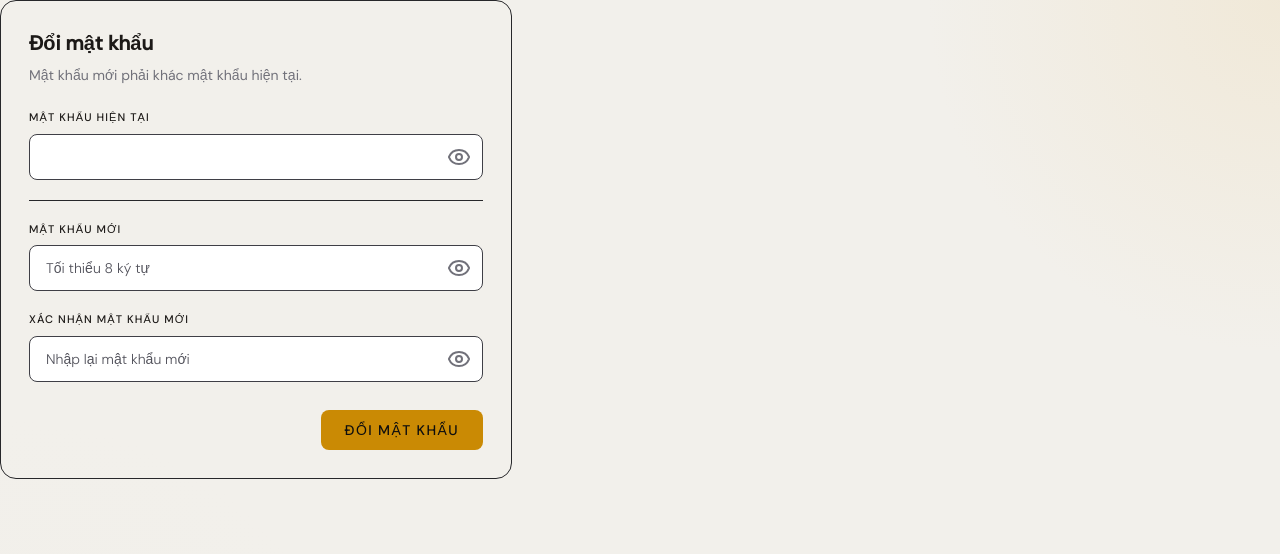
Test: ChangePasswordForm › should show error when confirm password does not match
The image size is (1280, 554).
Type "oldPassword1" into the 1st password field.
click(256, 156); type("oldPassword1")  # box [29,134,483,180]
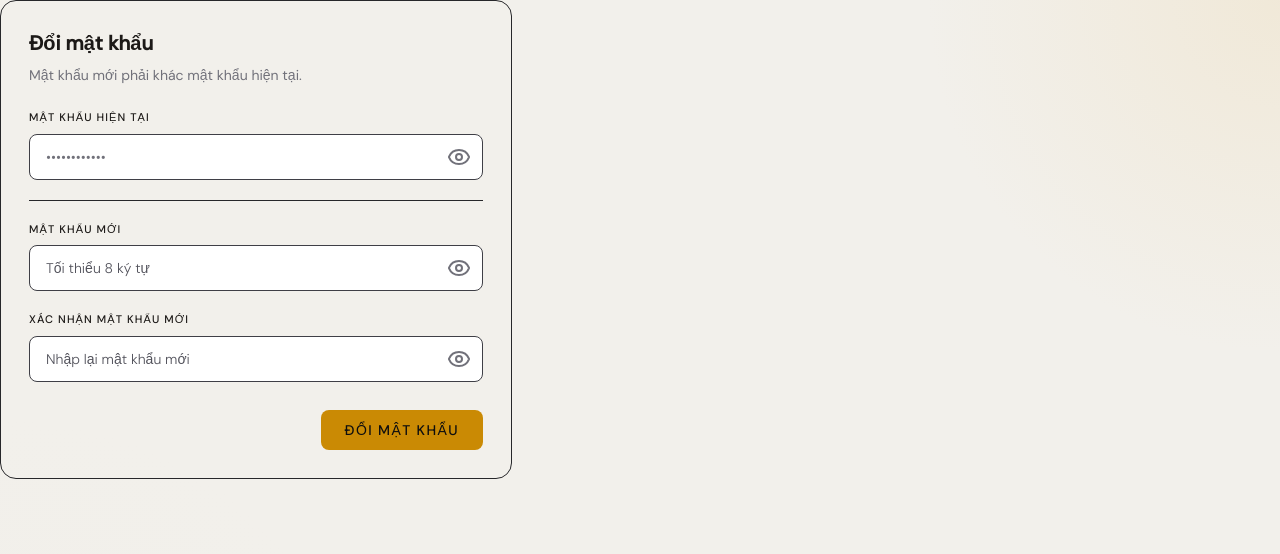
Type "NewPassword1" into the password field with placeholder "Tối thiểu 8 ký tự".
click(256, 268); type("NewPassword1")  # box [29,245,483,291]
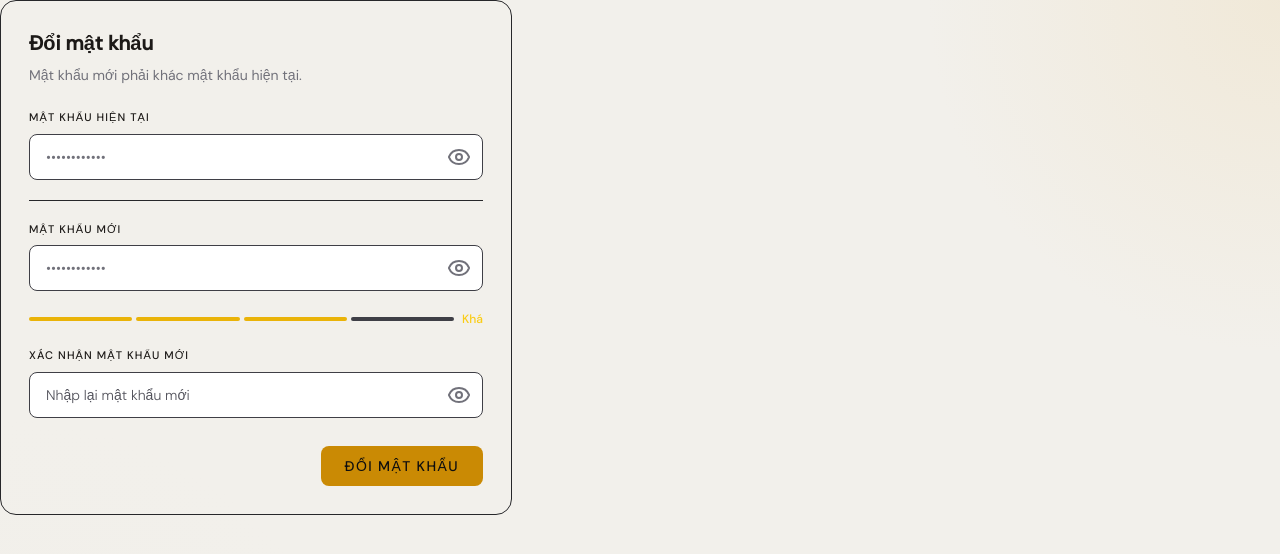
Type "OtherPassword1" into the password field with placeholder "Nhập lại mật khẩu mới".
click(256, 394); type("OtherPassword1")  # box [29,372,483,418]
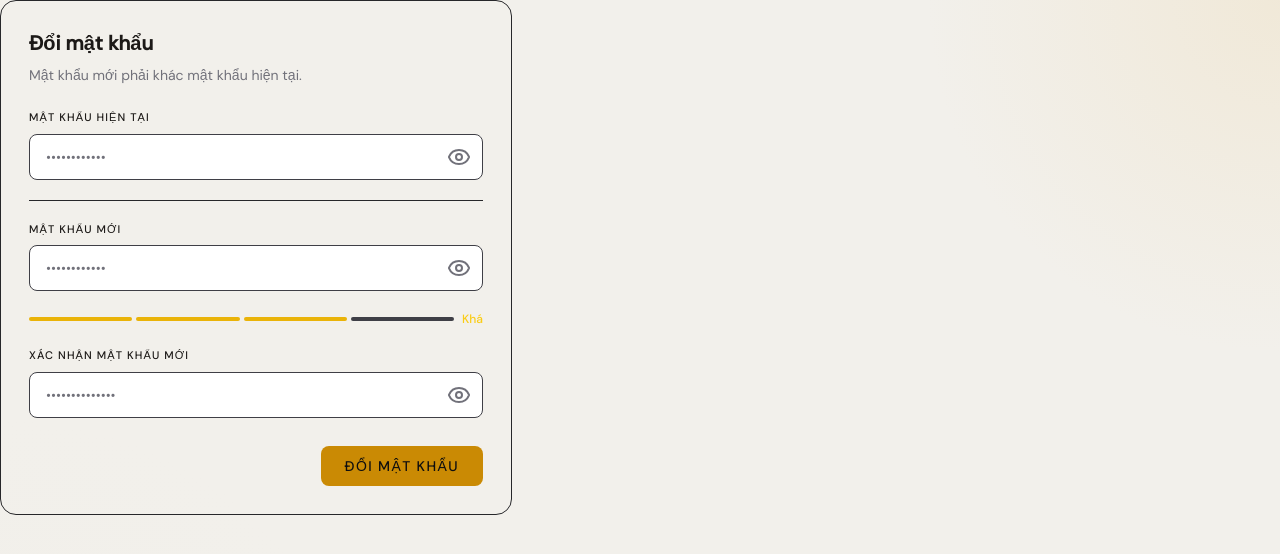
Click the button "Đổi mật khẩu".
click(402, 466)  # box [321,446,483,486]
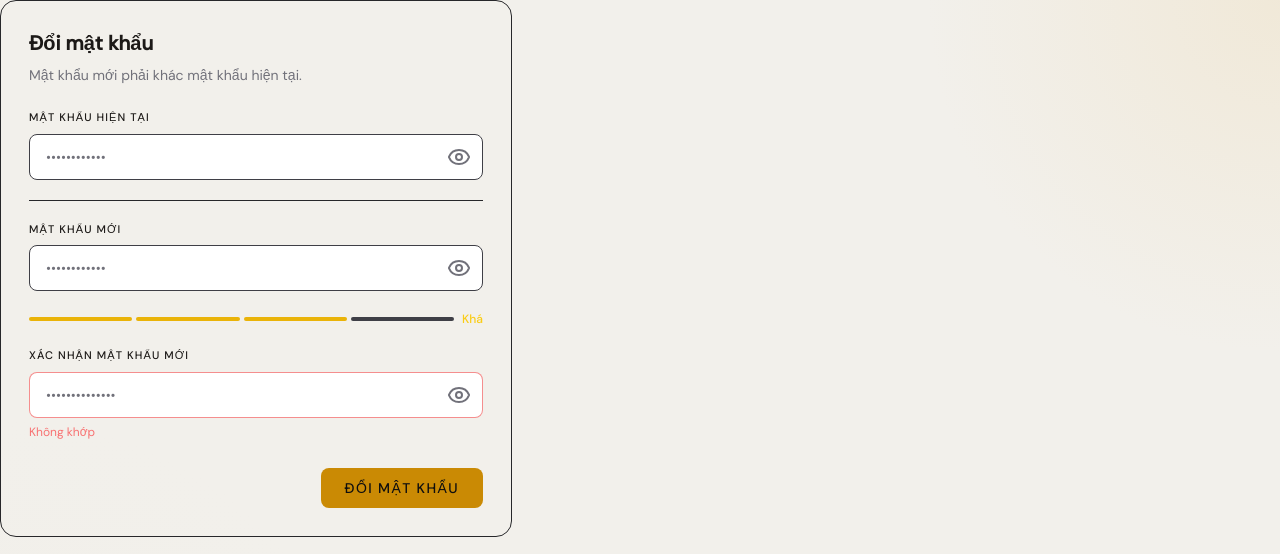
Expected: the text "Không khớp" is shown, [29,424,95,440]
